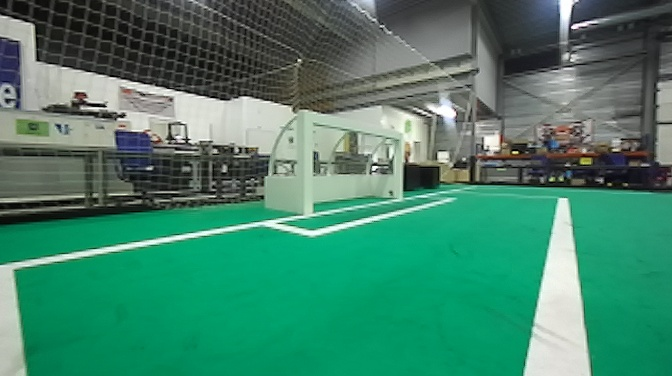goalpost: (295, 108, 317, 215), (385, 135, 413, 205)
